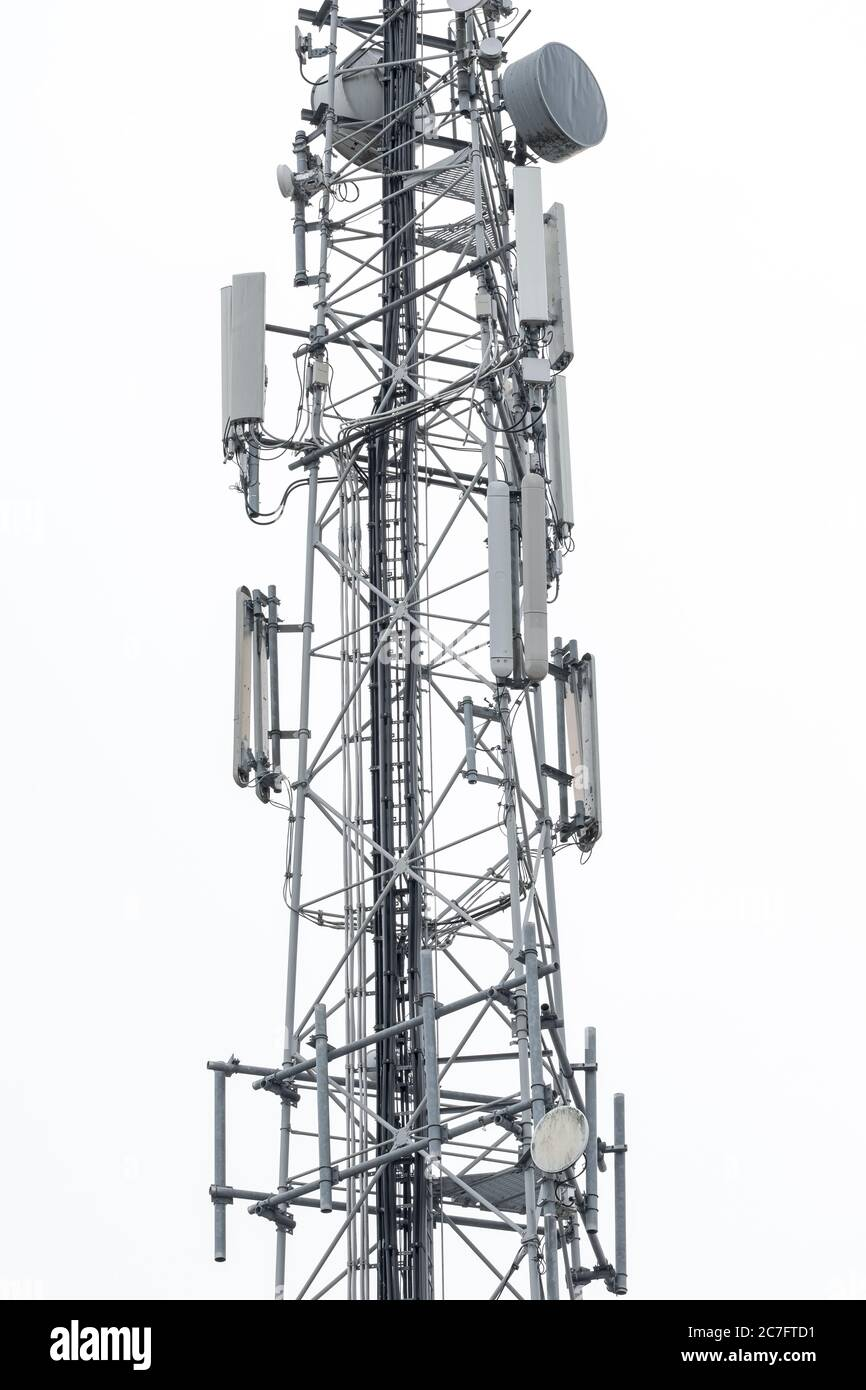ba: (495, 43, 600, 168), (522, 1097, 587, 1174)
